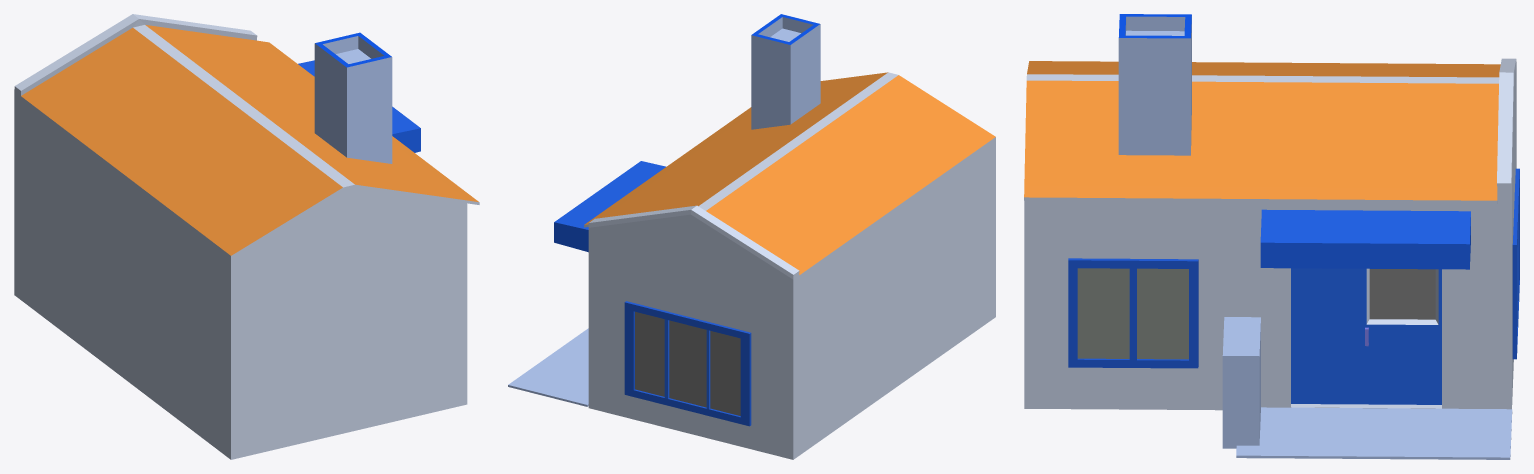
3 renders of one model, left to right at view 1: azimuth 30°, elevation 25°; view 2: azimuth 150°, elevation 25°; view 3: azimuth 270°, elevation 25°, orthographic. The views are drawn at different scales.
Parts seen in each view (by area): view 1: Object_729; view 2: Object_729; view 3: Object_729.
Part boxes in pixels (x1,y1,x2,y2): Object_729: (14, 14, 479, 459); Object_729: (508, 14, 995, 459); Object_729: (1024, 14, 1519, 459).
Size of the model in its own units: 0.8498 by 0.7915 by 1.01.
Materials: 1 (1 with a texture image).
